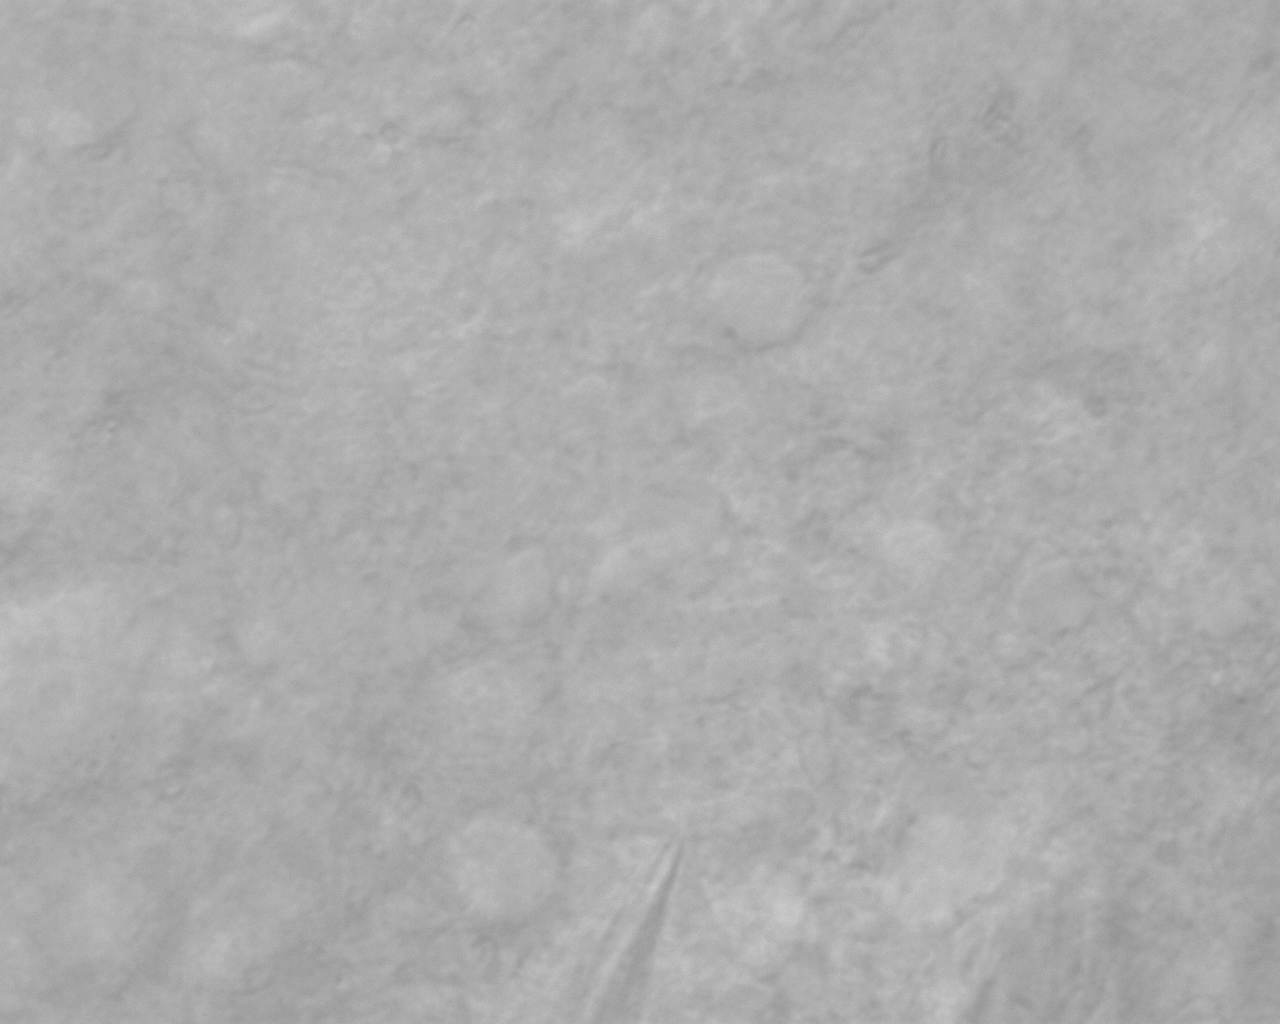neuron: (429, 808, 585, 941), (686, 242, 833, 359)
